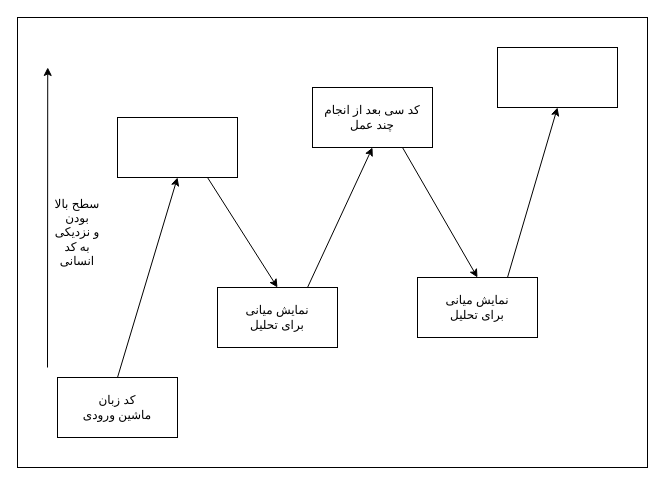
This 665x485 diagram has some shape labels left out. The shapes that lost their labels are listed below. From the top down, each one's centre as x and y in pixels, then its label:
At point (557, 77): "کد خروجی".
At point (177, 147): "کد سی ابتدایی".
